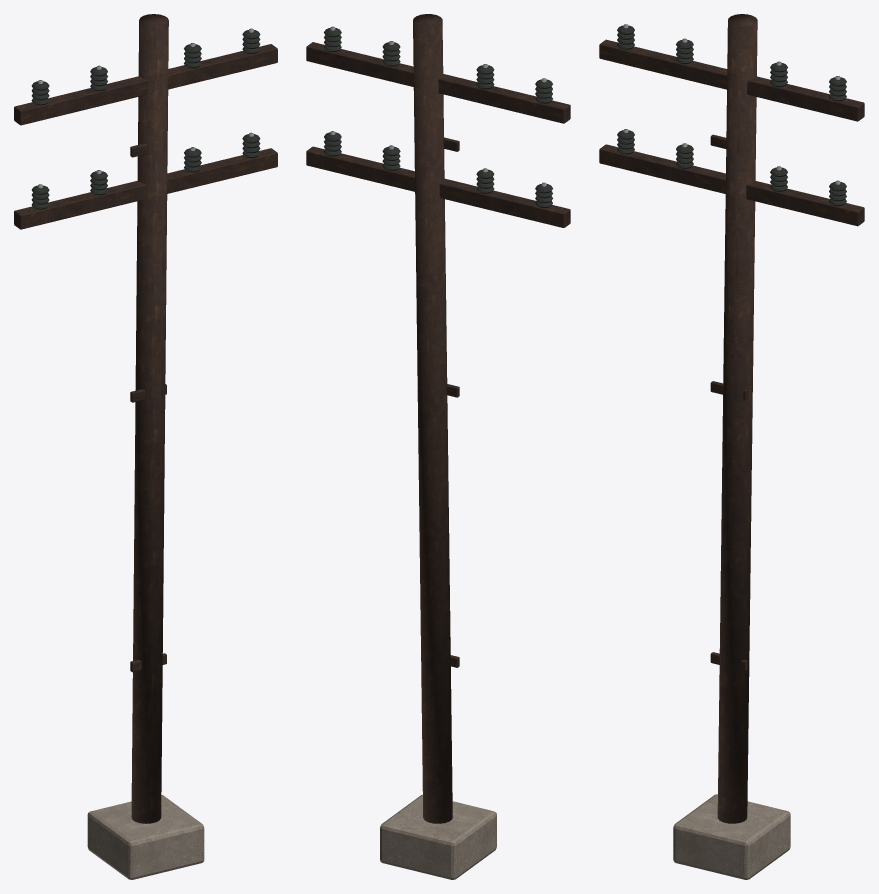
File: f3_v3_cable_pole.glb
The picture shows the model from 3 angles, left to right: view 1: azimuth 30°, elevation 25°; view 2: azimuth 150°, elevation 25°; view 3: azimuth 330°, elevation 25°; orthographic projection.
Parts seen in each view (by area): view 1: f3_oxidized_iron_surface, f3_weathered_concrete_surface, f3_deep_crack_surface; view 2: f3_oxidized_iron_surface, f3_weathered_concrete_surface, f3_deep_crack_surface; view 3: f3_oxidized_iron_surface, f3_weathered_concrete_surface, f3_deep_crack_surface.
Part boxes in pixels (x1,y1,x2,y2): f3_oxidized_iron_surface: [14, 14, 277, 823]; f3_weathered_concrete_surface: [87, 795, 204, 879]; f3_deep_crack_surface: [31, 30, 260, 209]; f3_oxidized_iron_surface: [306, 14, 570, 823]; f3_weathered_concrete_surface: [380, 794, 496, 879]; f3_deep_crack_surface: [324, 28, 552, 207]; f3_oxidized_iron_surface: [599, 14, 864, 823]; f3_weathered_concrete_surface: [673, 794, 790, 879]; f3_deep_crack_surface: [617, 25, 846, 206].
Bounding box in the file's own units: 2.2 × 6.8 × 0.65.
Materials: 4 (4 with a texture image).
